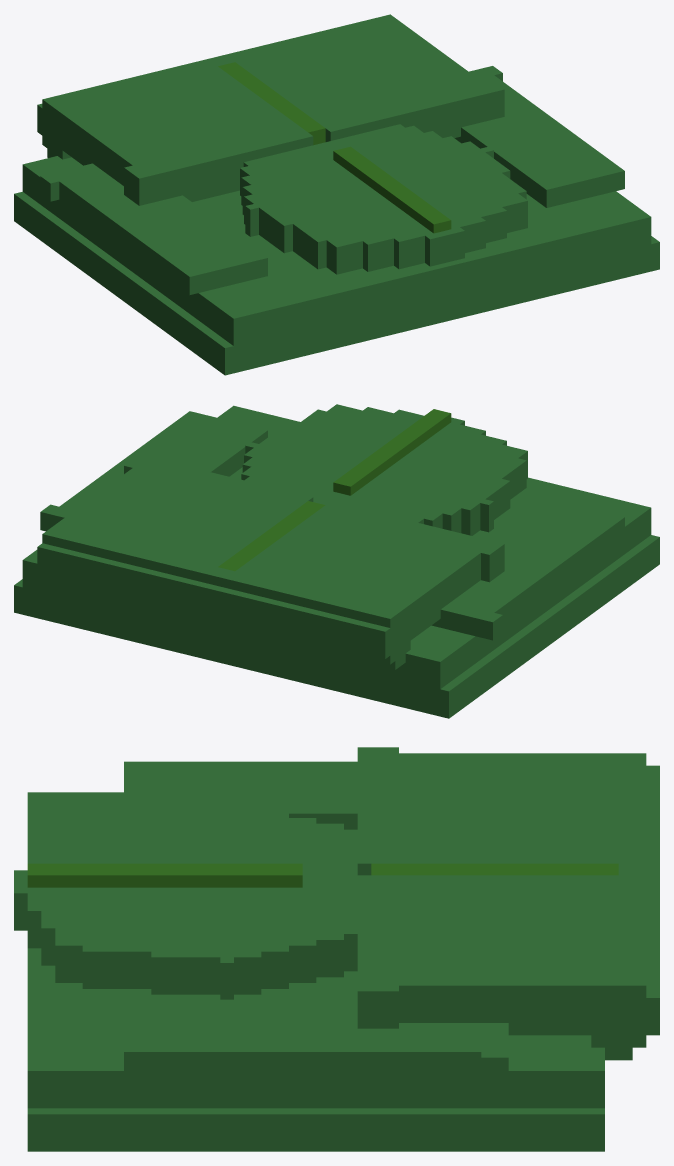
File: zentai.glb
3 views of the same model, one above another, from view 1: azimuth 30°, elevation 25°; view 2: azimuth 150°, elevation 25°; view 3: azimuth 270°, elevation 25° (orthographic). The views are drawn at different scales.
Visible parts, largest first — view 1: zentai:compound; view 2: zentai:compound; view 3: zentai:compound.
Part boxes in pixels (x1,y1,x2,y2): zentai:compound: (14, 14, 659, 375); zentai:compound: (14, 404, 659, 718); zentai:compound: (14, 747, 659, 1151).
Bounding box in the file's own units: 0.208 × 0.044 × 0.188.
